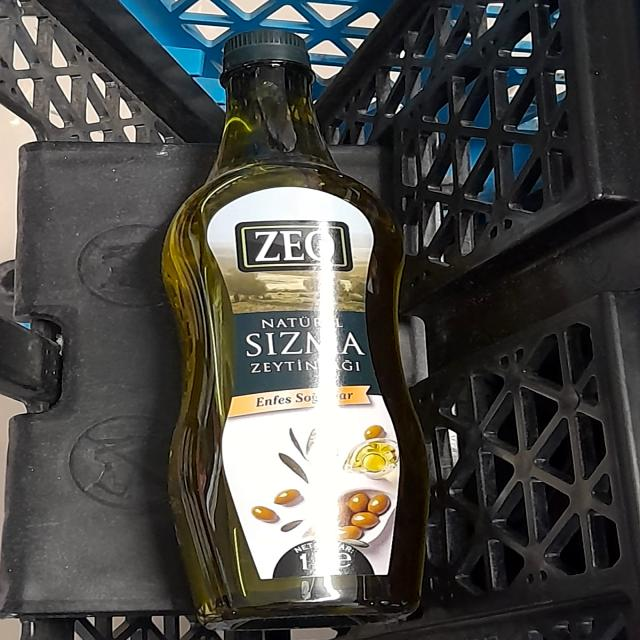olive oil: (138, 92, 454, 619)
